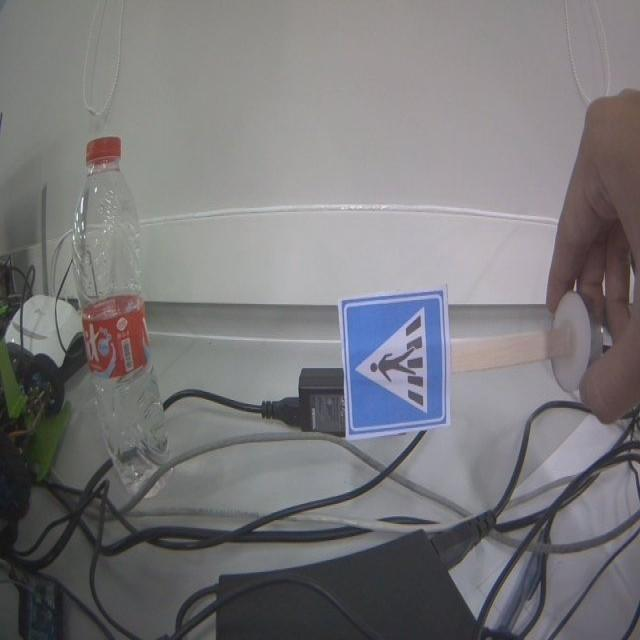Rambu Penyebrangan: (338, 287, 449, 437)
